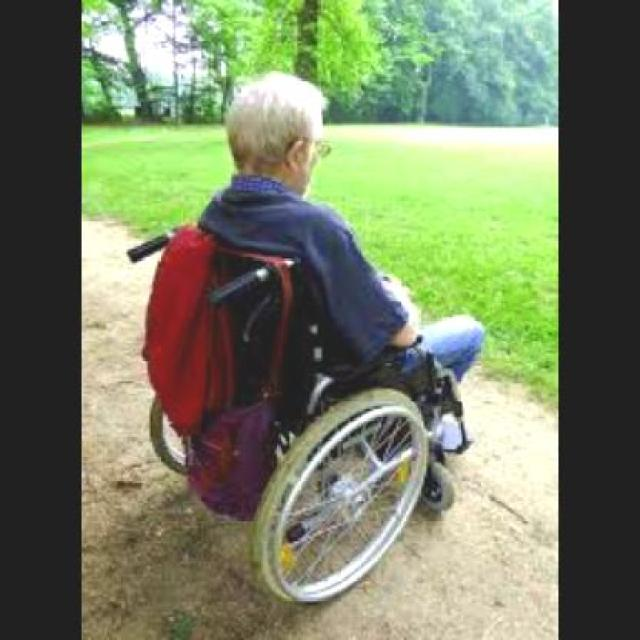wheelchairs: (131, 218, 461, 600)
